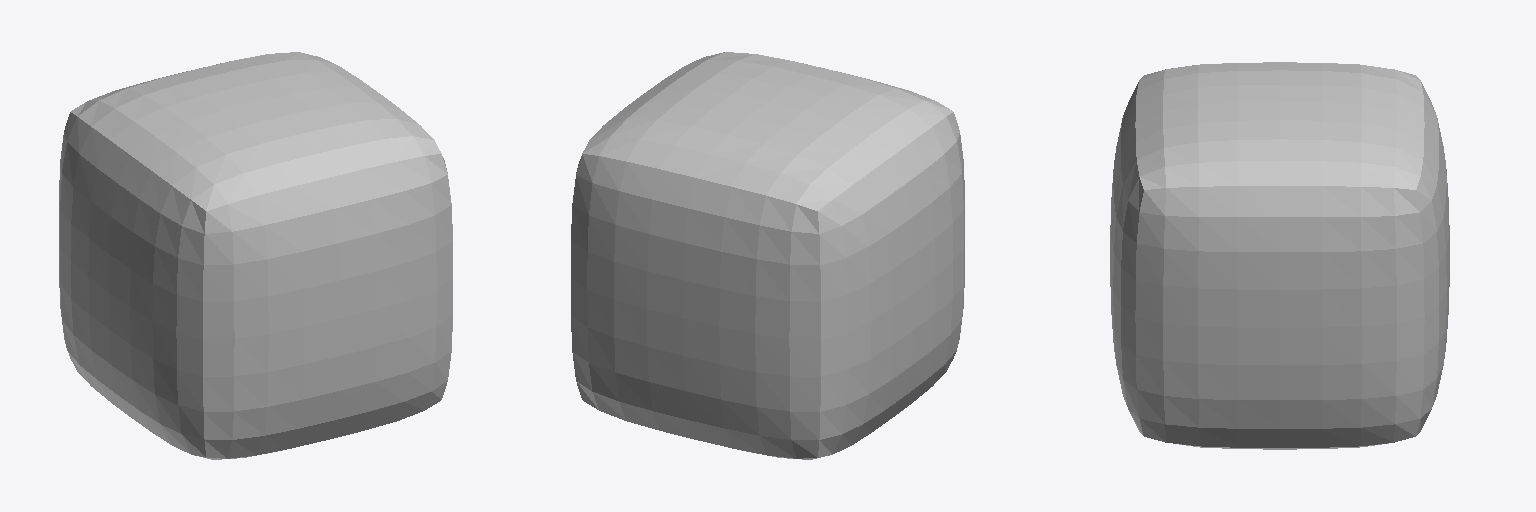
Rendered from softBox.obj.
3 views of the same model, side by side, from view 1: azimuth 30°, elevation 25°; view 2: azimuth 150°, elevation 25°; view 3: azimuth 270°, elevation 25° (orthographic).
Parts seen in each view (by area): view 1: Cube; view 2: Cube; view 3: Cube.
Boxes of the visible parts, box(x1,y1,x2,y2) form: Cube: box(59, 52, 452, 459); Cube: box(571, 52, 964, 459); Cube: box(1110, 62, 1449, 449).
Bounding box in the file's own units: 1.99 × 1.99 × 1.99.